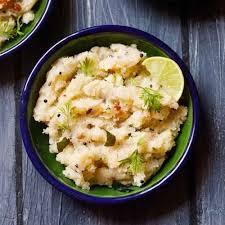upma: (28, 38, 184, 193)
